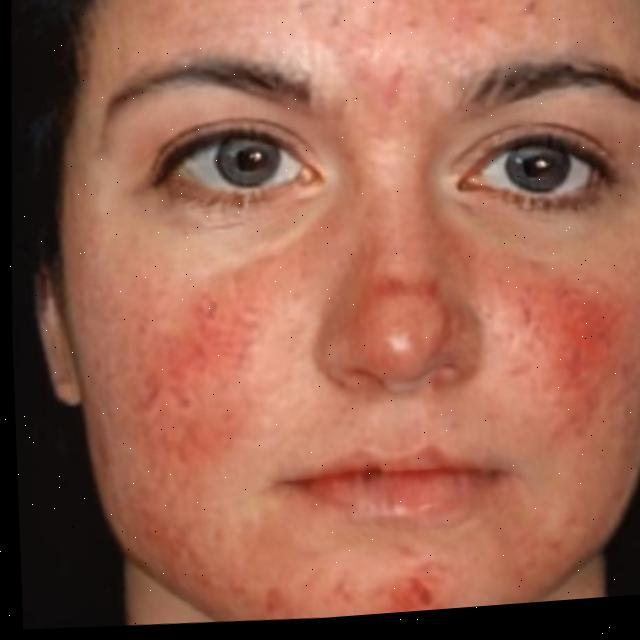Rosacea: (119, 247, 289, 488), (474, 231, 640, 446), (337, 530, 471, 617)
